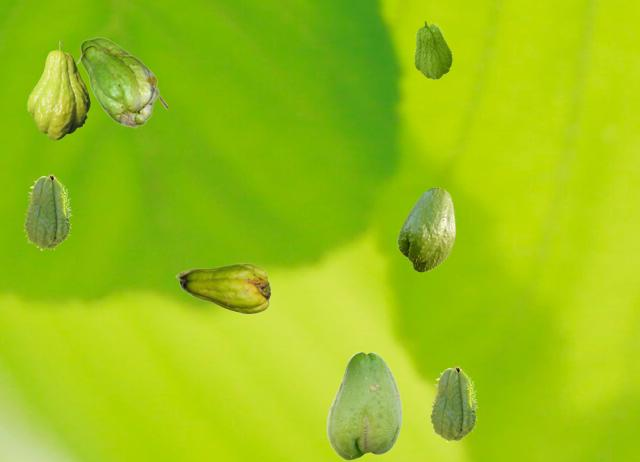sayote: (326, 351, 401, 459), (76, 37, 166, 127), (27, 40, 89, 139), (396, 187, 455, 272), (175, 263, 269, 313), (23, 174, 71, 250), (429, 366, 477, 442), (413, 20, 452, 78)
